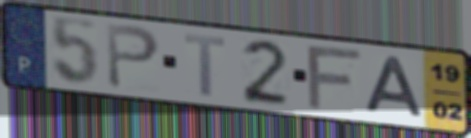2: (238, 37, 294, 109)
5: (46, 17, 102, 88)
A: (363, 54, 428, 121)
F: (304, 45, 366, 113)
P: (104, 21, 163, 92)
T: (181, 31, 228, 99)
